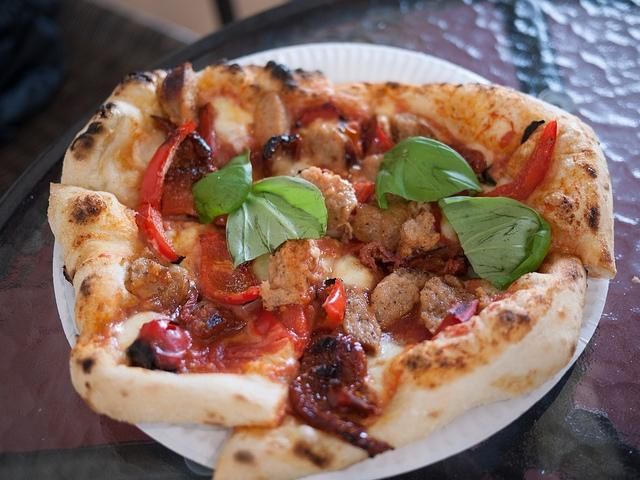bell pepper: (472, 119, 556, 202), (138, 121, 196, 212), (199, 232, 262, 305), (131, 202, 186, 264), (272, 303, 311, 360), (290, 103, 353, 136), (430, 300, 480, 340), (312, 279, 347, 334), (194, 103, 220, 165), (365, 116, 393, 156), (351, 181, 376, 216)
